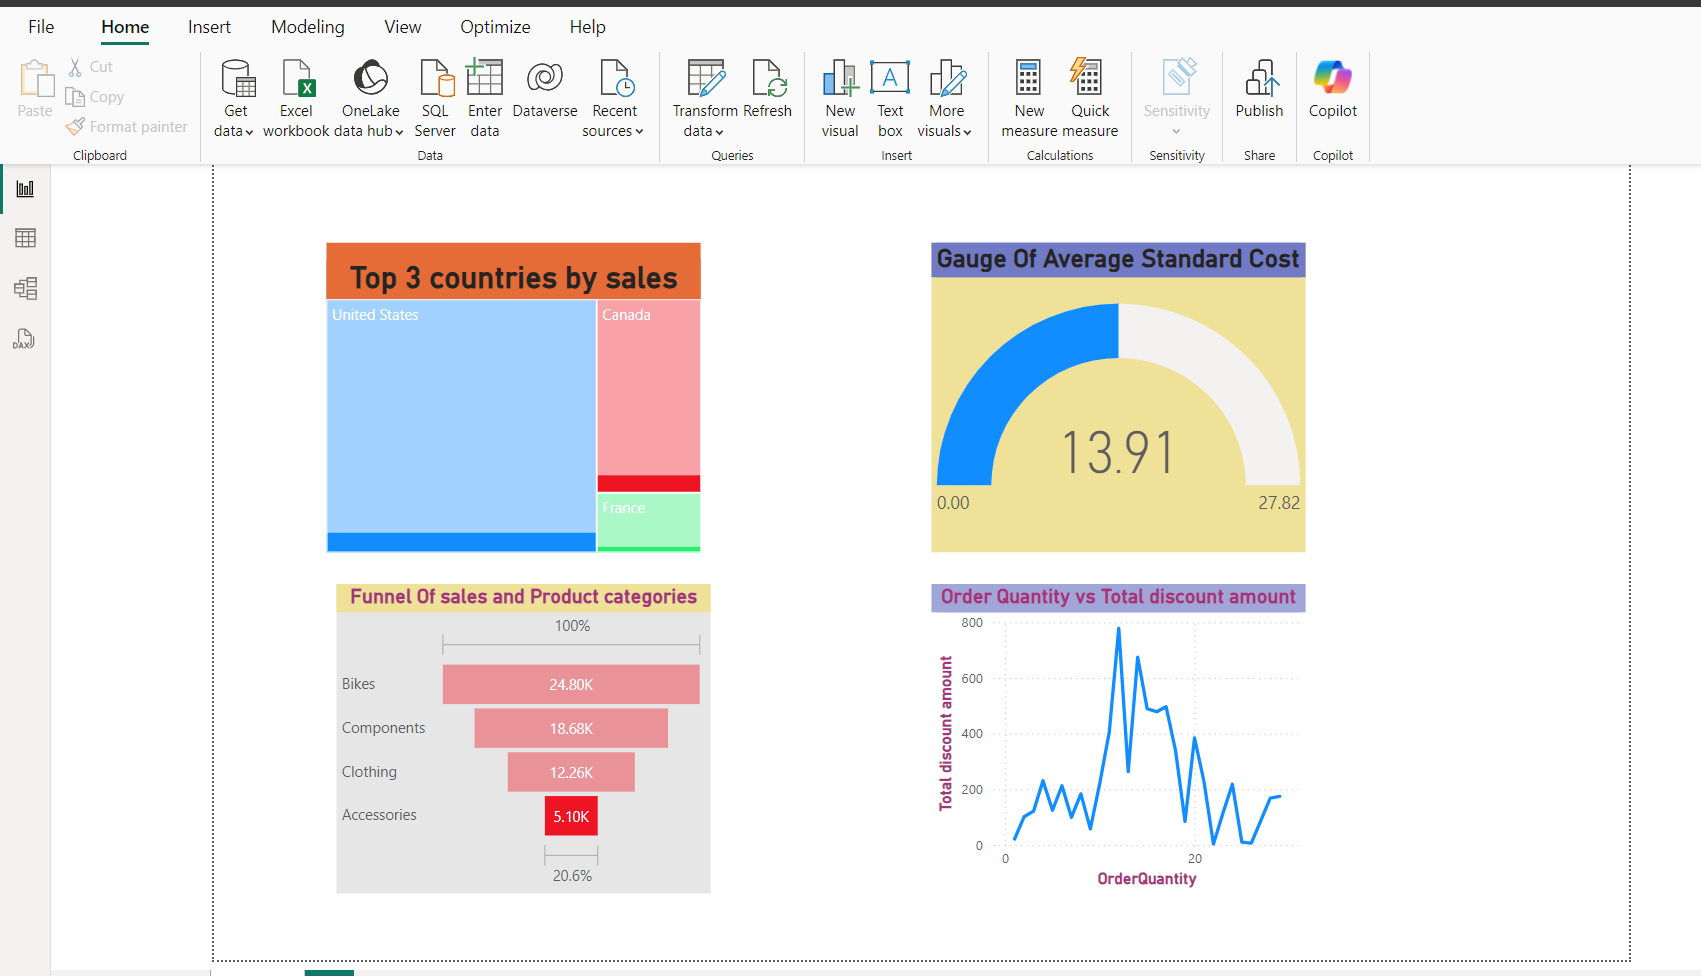

The dashboard page shown, as its layout file describes it:
{"tool":"powerbi","page":{"name":"Page 1","canvas":[1280,720],"ordinal":0},"visuals":[{"type":"treemap","title":"Top 3 countries by sales","fields":{"Group":["Sheet1.Country"],"Values":["CountNonNull(Sheet1.Sales)"]},"box":[101.2,71.2,338.8,280],"z":0},{"type":"gauge","title":"Gauge Of Average Standard Cost","fields":{"Y":["Avg(Sheet1.StandardCost)"]},"box":[648.8,71.2,338.8,280],"z":1},{"type":"funnel","title":"Funnel Of sales and Product categories","fields":{"Category":["Sheet1.productcategory"],"Y":["CountNonNull(Sheet1.Sales)"]},"box":[111.2,380,338.8,280],"z":2},{"type":"lineChart","title":"Order Quantity vs Total discount amount ","fields":{"Y":["Sum(Sheet1.Discount)"],"Category":["Sheet1.OrderQuantity"]},"box":[648.8,380,338.8,280],"z":3}]}

Visuals, with their boxes on the page's 1280x720 design canvas (x1, y1, x2, y2). These are canvas units, not pixel positions in the 1701x976 screenshot, which may show the page scaled, cropped or inside an application window:
"Top 3 countries by sales" treemap: [101,71,440,351]
"Gauge Of Average Standard Cost" gauge: [649,71,988,351]
"Funnel Of sales and Product categories" funnel: [111,380,450,660]
"Order Quantity vs Total discount amount " lineChart: [649,380,988,660]
